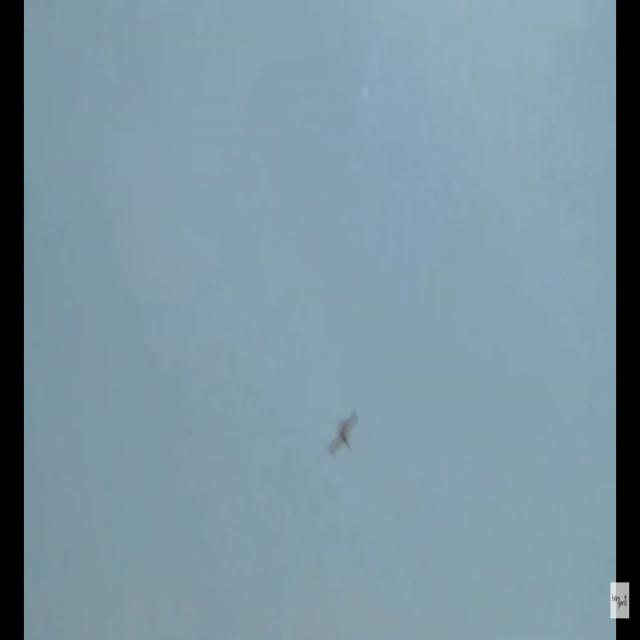iha: (327, 408, 359, 458)
